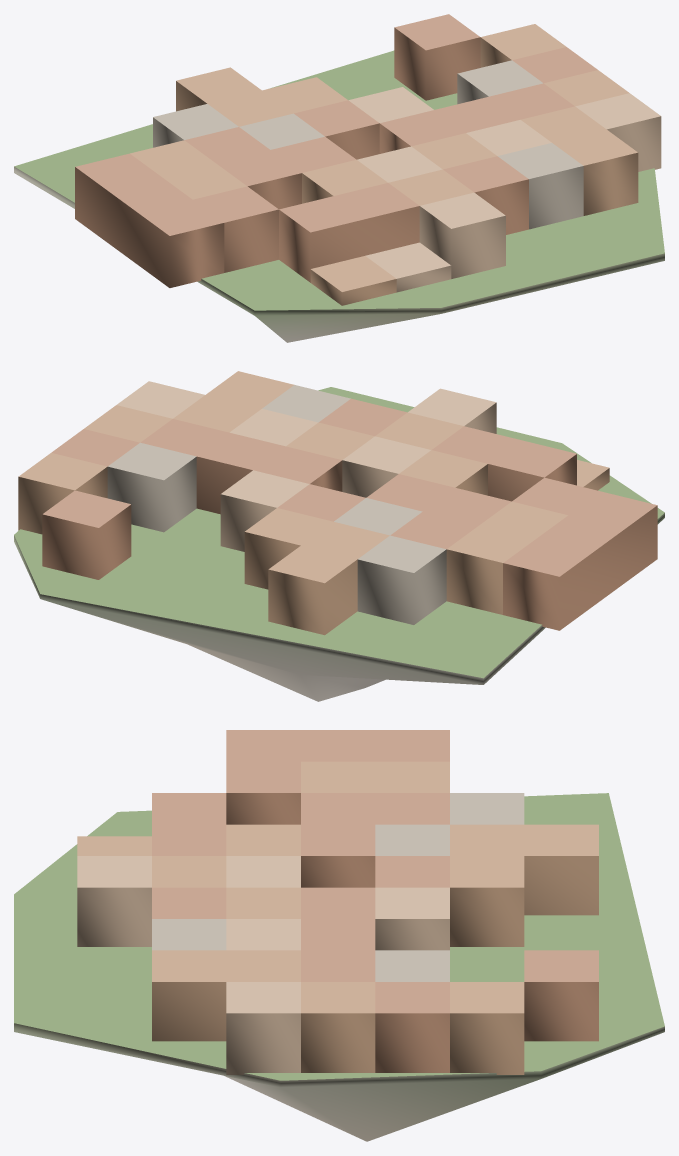
File: SKY-085.lod2.glb
3 renders of one model, top to bottom at view 1: azimuth 30°, elevation 25°; view 2: azimuth 150°, elevation 25°; view 3: azimuth 270°, elevation 25°, orthographic. The views are drawn at different scales.
Visible parts, largest first — view 1: warren_hull, deck, rock; view 2: warren_hull, deck, rock; view 3: warren_hull, deck, rock.
Part boxes in pixels (x1,y1,x2,y2): warren_hull: [75, 14, 661, 305]; deck: [14, 50, 664, 310]; rock: [14, 166, 664, 342]; warren_hull: [18, 371, 657, 635]; deck: [14, 387, 664, 678]; rock: [14, 513, 664, 701]; warren_hull: [77, 730, 598, 1074]; deck: [14, 793, 664, 1080]; rock: [14, 1023, 664, 1141].
Bounding box in the file's own units: 139 × 52.22 × 131.
